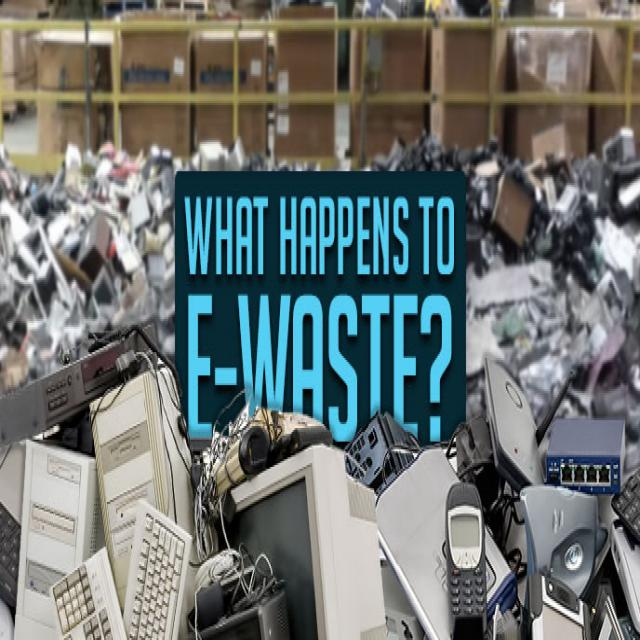hazard: (5, 95, 640, 640)
